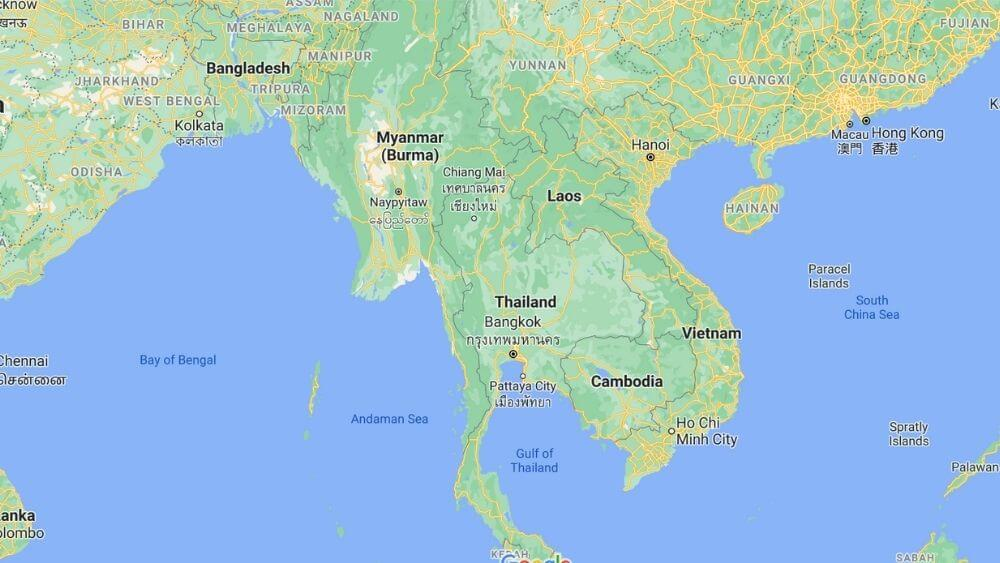Island: (800, 254, 854, 291), (883, 417, 934, 450)
